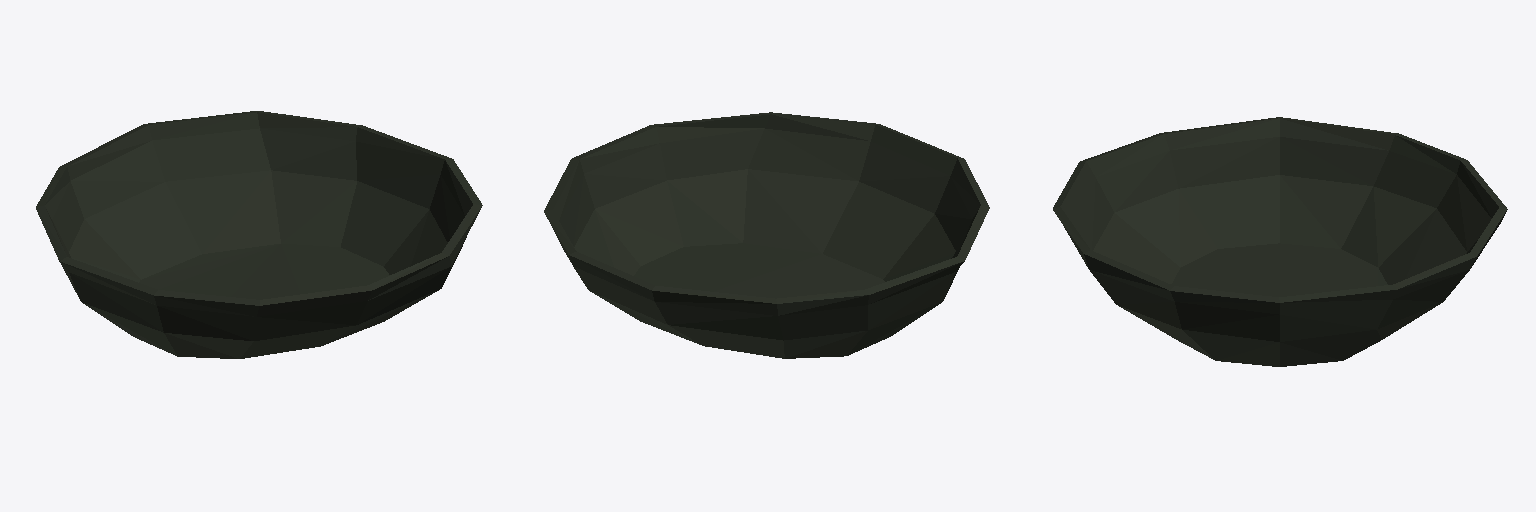
File: rubyBowl.obj
The picture shows the model from 3 angles: view 1: azimuth 30°, elevation 25°; view 2: azimuth 150°, elevation 25°; view 3: azimuth 270°, elevation 25°; orthographic projection.
Visible parts, largest first — view 1: Plane; view 2: Plane; view 3: Plane.
Part boxes in pixels (bbox=[...]): Plane: bbox=[36, 111, 482, 358]; Plane: bbox=[544, 112, 989, 358]; Plane: bbox=[1053, 117, 1507, 366].
Size of the model in its own units: 1.82 by 0.4479 by 1.82.